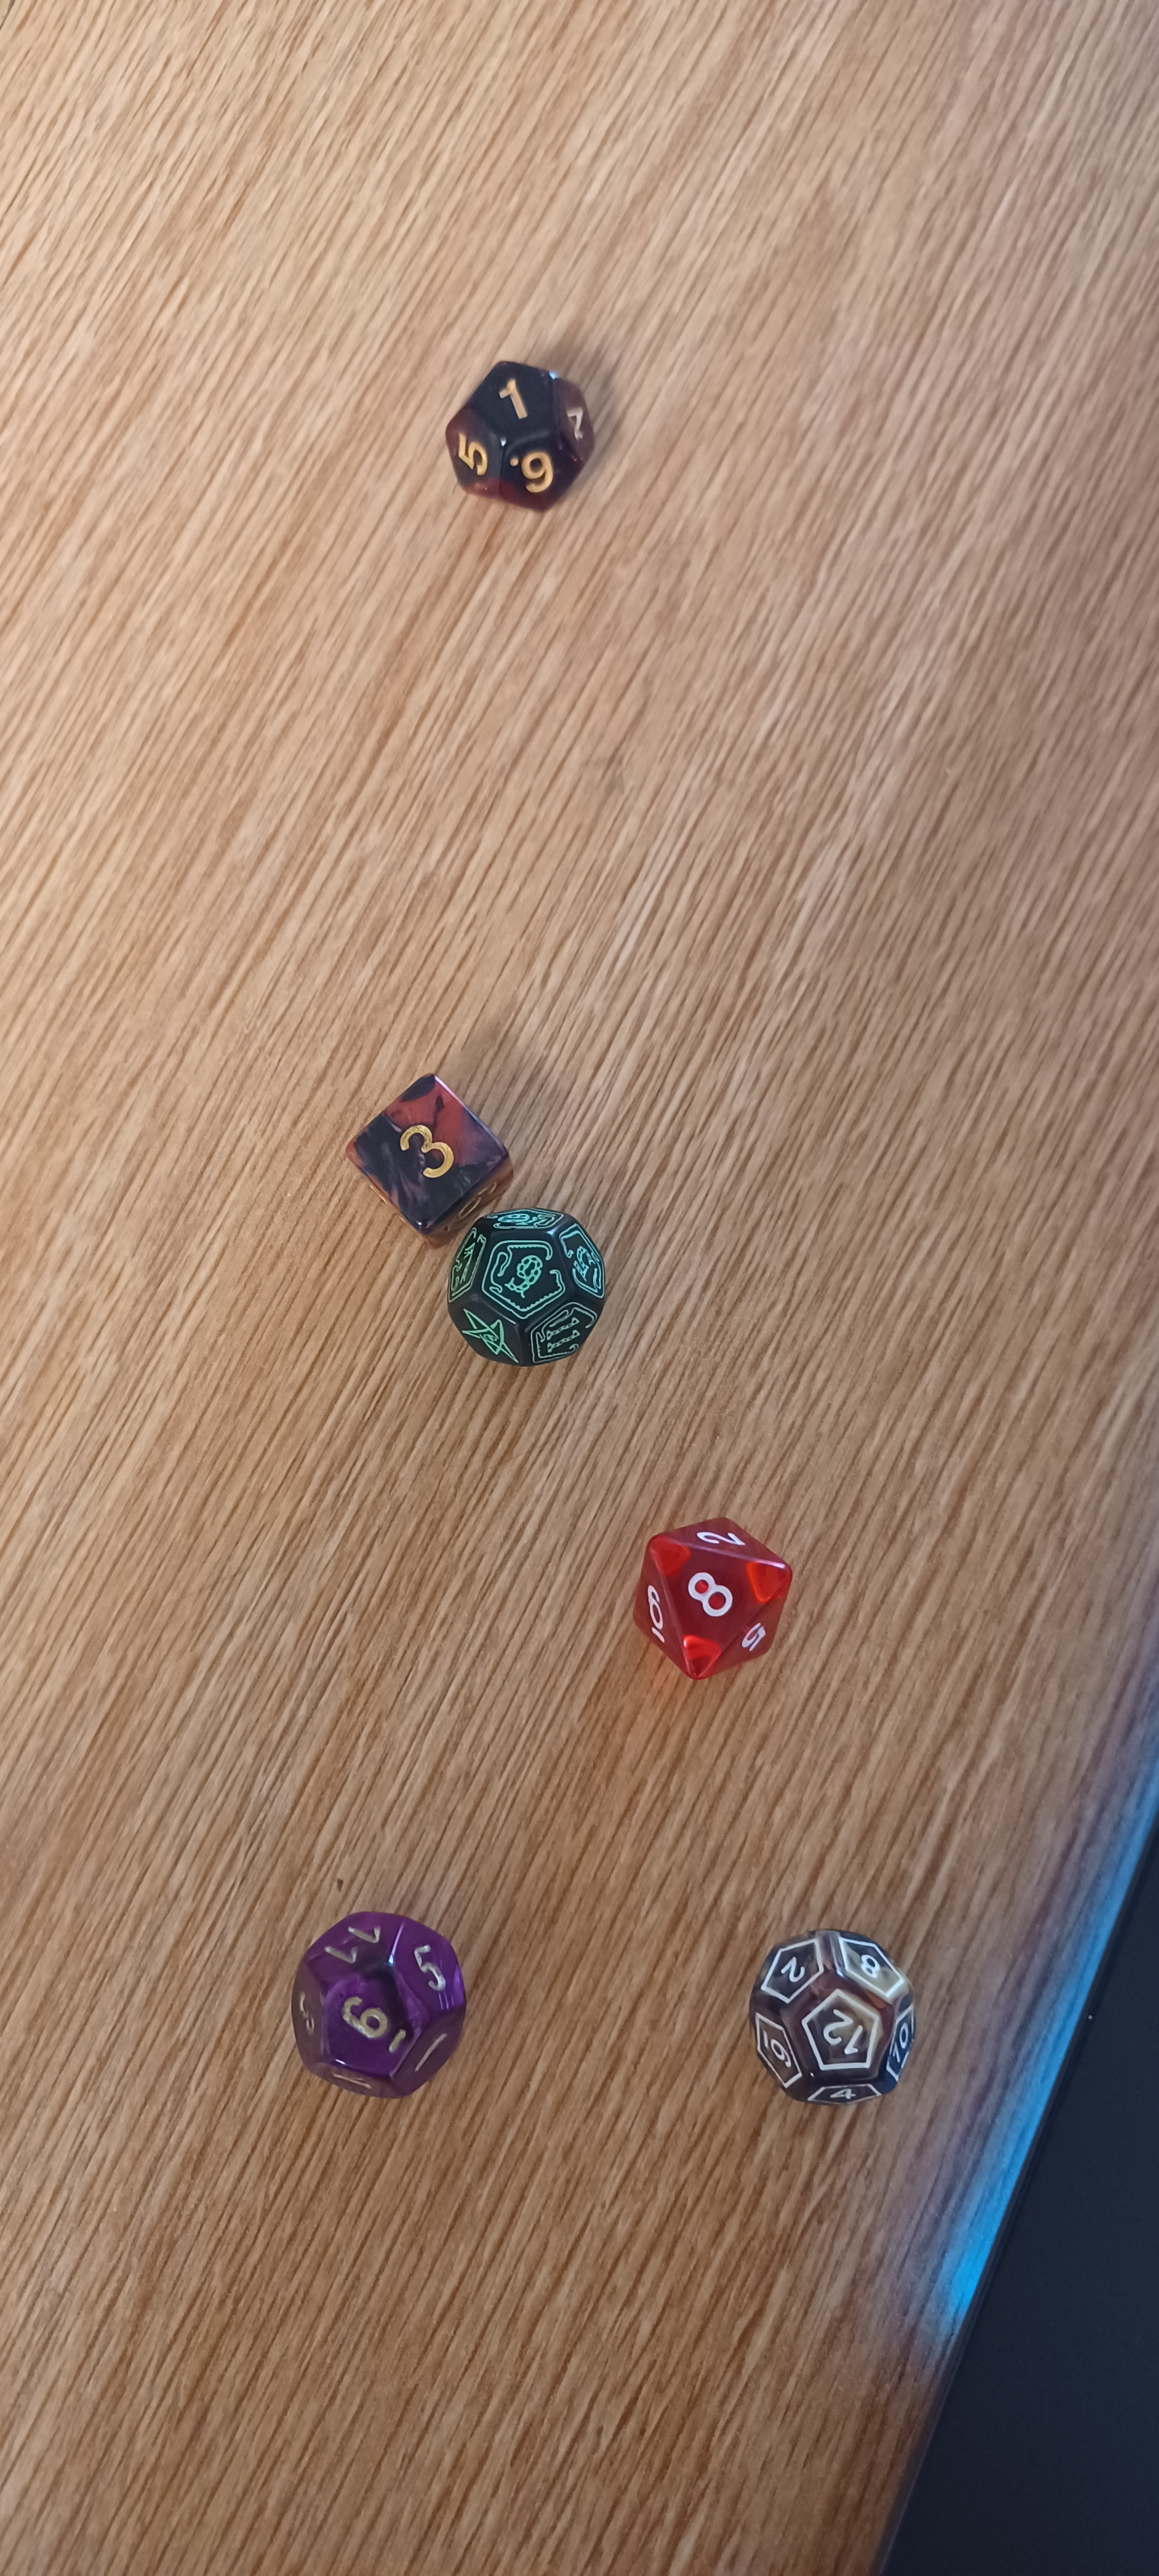eight: (598, 1500, 832, 1702)
nine: (422, 1196, 642, 1385)
one: (422, 338, 648, 534)
six: (251, 1873, 511, 2131)
three: (312, 1055, 543, 1257)
twelve: (726, 1912, 962, 2144)
